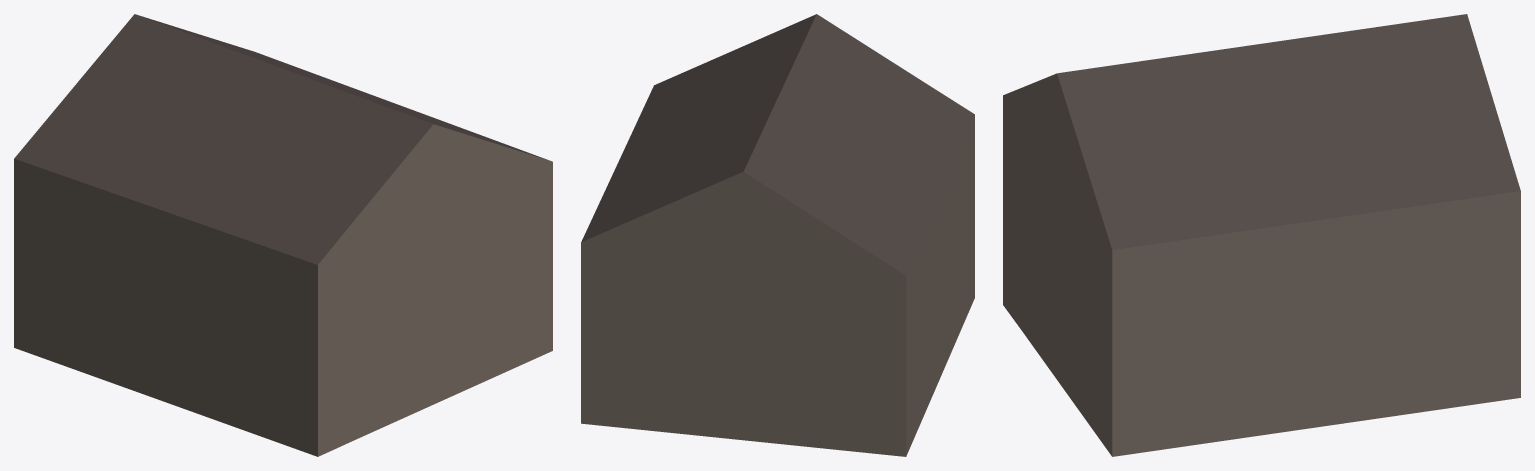
The picture shows the model from 3 angles, left to right: view 1: azimuth 30°, elevation 25°; view 2: azimuth 150°, elevation 25°; view 3: azimuth 270°, elevation 25°; orthographic projection. The views are drawn at different scales.
Visible parts, largest first — view 1: HP-w1196401642; view 2: HP-w1196401642; view 3: HP-w1196401642.
Part boxes in pixels (x1,y1,x2,y2): HP-w1196401642: [14, 14, 552, 456]; HP-w1196401642: [581, 14, 974, 456]; HP-w1196401642: [1003, 14, 1520, 456].
Bounding box in the file's own units: 13.3 × 8.89 × 13.62.
